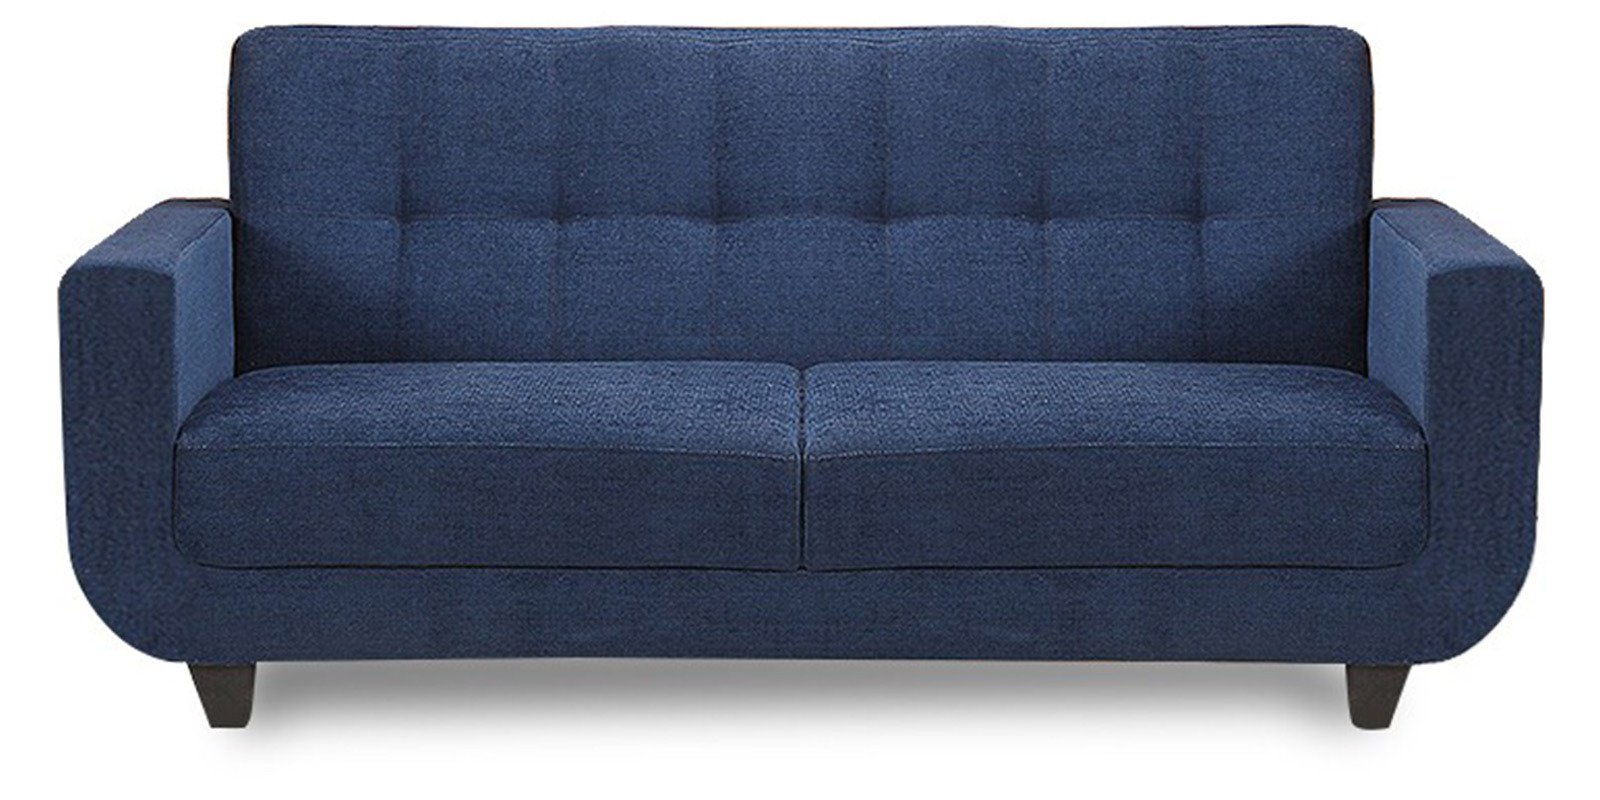Berlin Three Seater Sofa in Blue Colour by Crystal Furnitech: (24, 13, 1549, 738)
